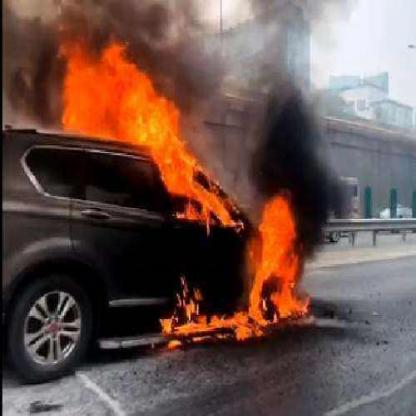fire: (55, 38, 243, 232), (255, 183, 314, 339), (158, 292, 252, 358)
smoke: (252, 58, 336, 181), (9, 3, 199, 45)
